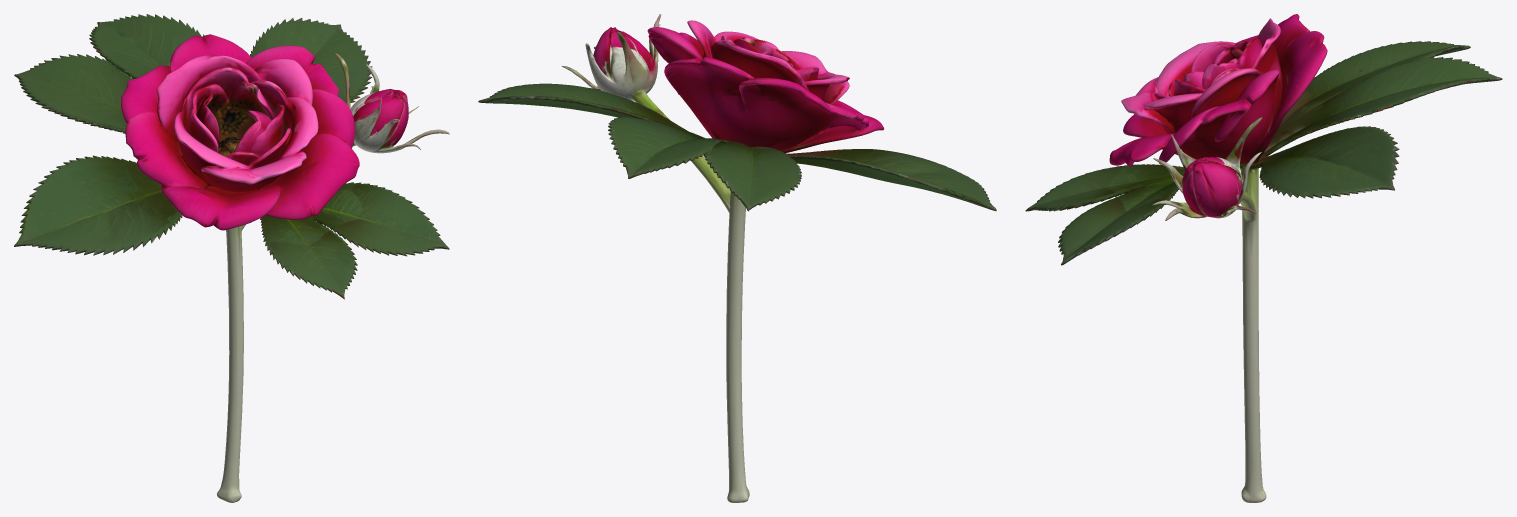
File: yueji.glb
The picture shows the model from 3 angles, left to right: view 1: azimuth 30°, elevation 25°; view 2: azimuth 150°, elevation 25°; view 3: azimuth 270°, elevation 25°; orthographic projection. The views are drawn at different scales.
Visible parts, largest first — view 1: node_0; view 2: node_0; view 3: node_0.
Part boxes in pixels (<box>): node_0: <box>14,14,449,502</box>; node_0: <box>478,14,996,502</box>; node_0: <box>1025,14,1502,502</box>.
Size of the model in its own units: 0.8819 by 0.9097 by 0.85.
Materials: 1 (1 with a texture image).
